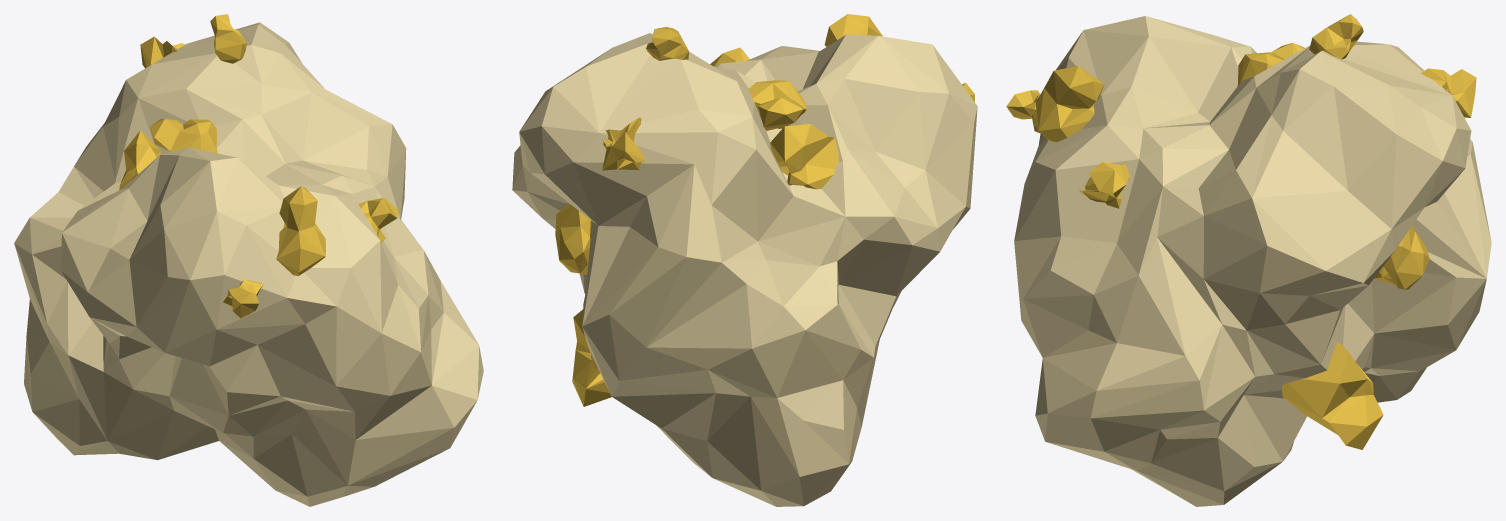
The model's file is MetalOre (35).fbx.
The picture shows the model from 3 angles, left to right: view 1: azimuth 30°, elevation 25°; view 2: azimuth 150°, elevation 25°; view 3: azimuth 270°, elevation 25°; orthographic projection. The views are drawn at different scales.
Parts seen in each view (by area): view 1: Asteroid390; view 2: Asteroid390; view 3: Asteroid390.
Part boxes in pixels (left/top/right/bottom): Asteroid390: left=14, top=14, right=483, bottom=506; Asteroid390: left=512, top=14, right=977, bottom=506; Asteroid390: left=1006, top=14, right=1491, bottom=506.
Size of the model in its own units: 340 by 409 by 380.
